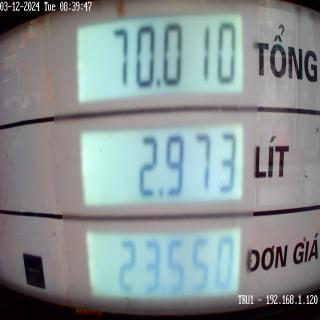screen: (69, 0, 248, 319)
